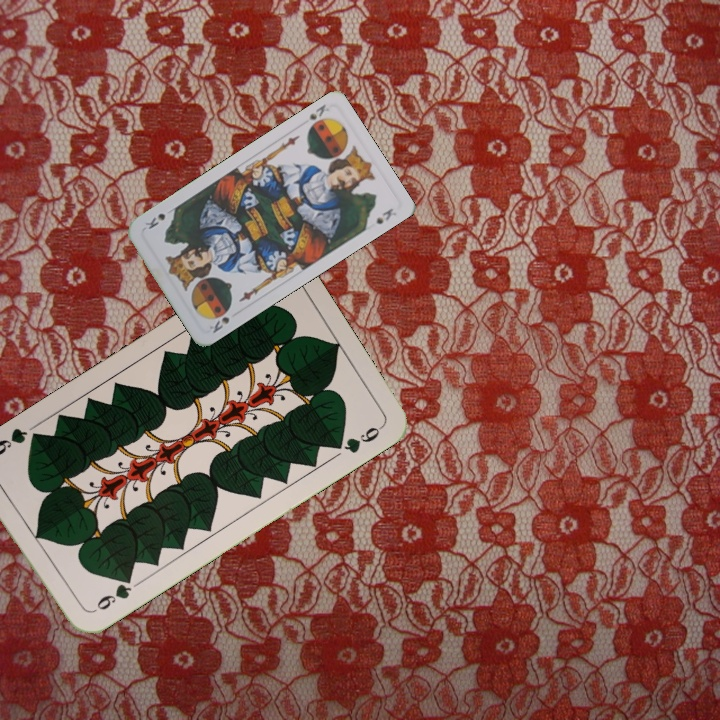G9: (87, 571, 135, 616)
SK: (303, 100, 332, 133), (205, 312, 232, 336)
